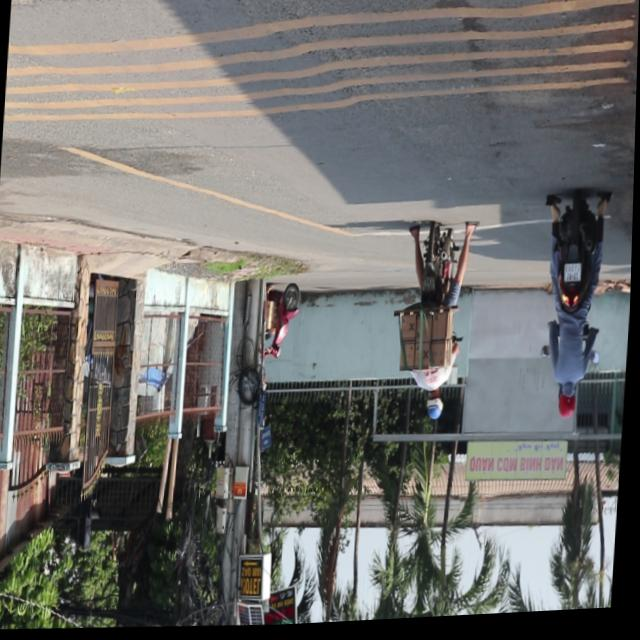helmet: (557, 392, 578, 428), (426, 395, 446, 428)
licenseplate: (535, 196, 611, 430), (395, 223, 476, 431)
nohelmet: (565, 269, 583, 289)
